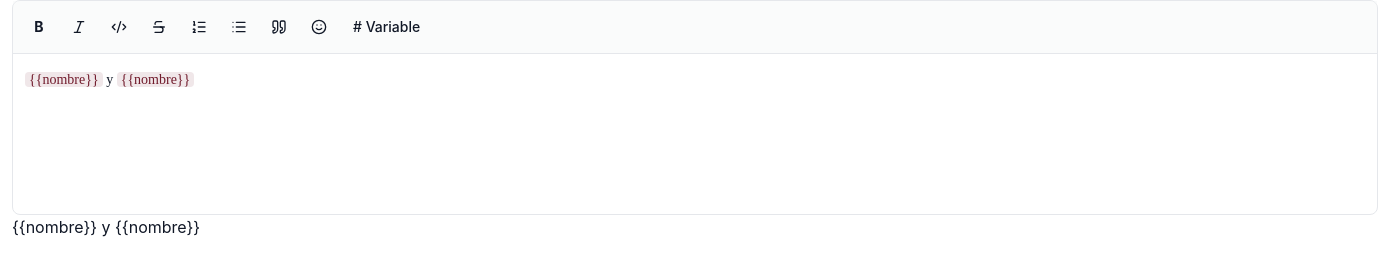
Test case: named variables › edits with one click, migrates each occurrence, and rejects invalid names
Click the button with aria-label "Editar {{nombre}}" at x=64, y=80, box [25, 72, 103, 87]
Wait 300 ms
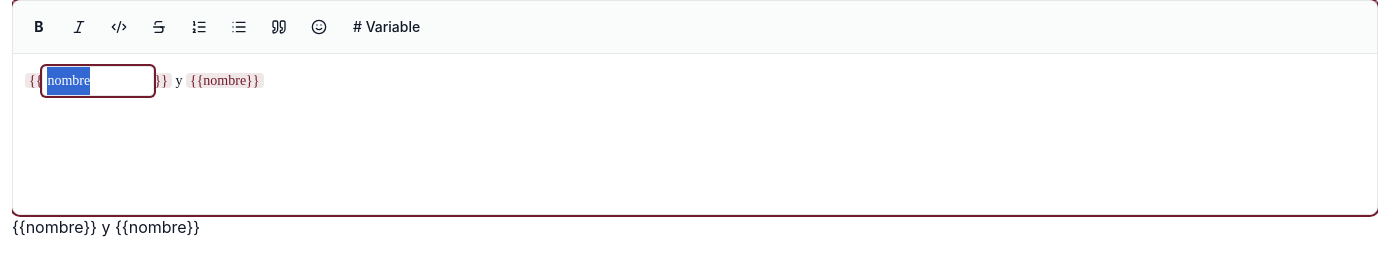
Replace the text in the field named "Nombre de variable inline" with "9mal" at x=98, y=81, box [42, 66, 154, 96]
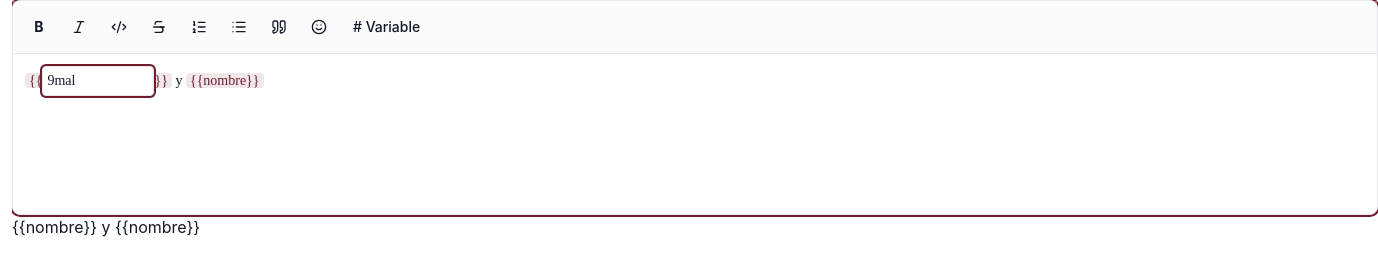
Press Enter in the field named "Nombre de variable inline", box [42, 66, 154, 96]
Replace the text in the field named "Nombre de variable inline" with "ciudadano" at x=98, y=81, box [42, 66, 154, 96]
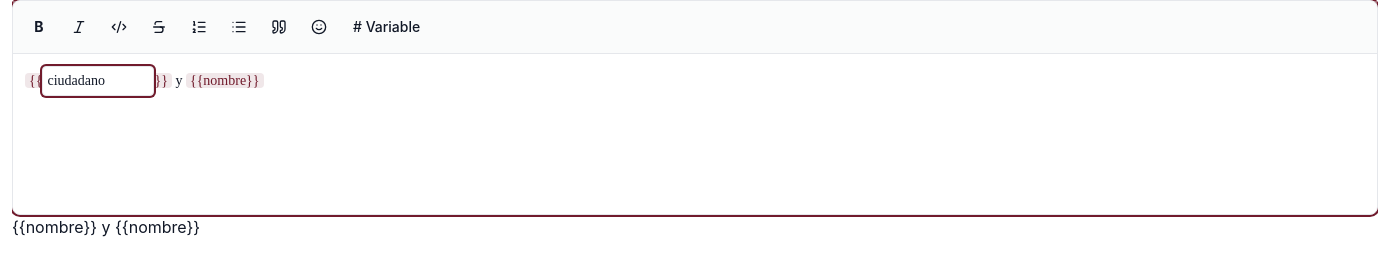
Press Enter in the field named "Nombre de variable inline", box [42, 66, 154, 96]
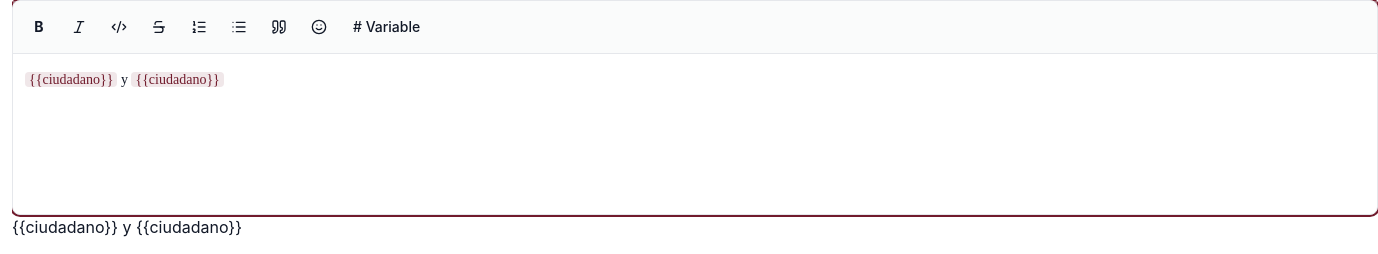
Now the text with test id "value" reads "{{ciudadano}} y {{ciudadano}}", box [12, 217, 242, 237]
